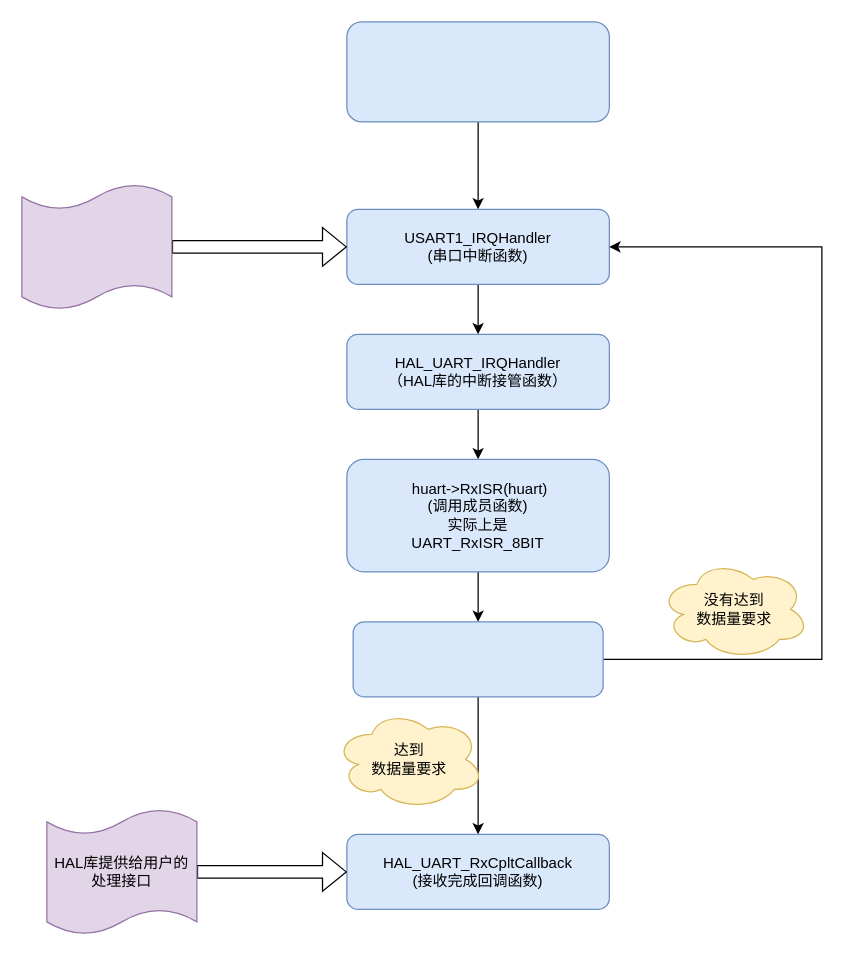
The diagram is 854 pixels wide and 956 high, and some of its shapes have lost their labels. The shapes that lost their labels are listed below. From the top down, each one's centre as x and y in pixels, then its label:
At point (477, 71): "HAL_UART_Receive_IT (传入缓冲区和接收数量) （内部会设置成员函数 为对应的回调函数）".
At point (96, 246): "当串口接收到一个字节数据时".
At point (477, 659): "根据读取的数据大小进行计数， 并进行缓冲区地址自增".
